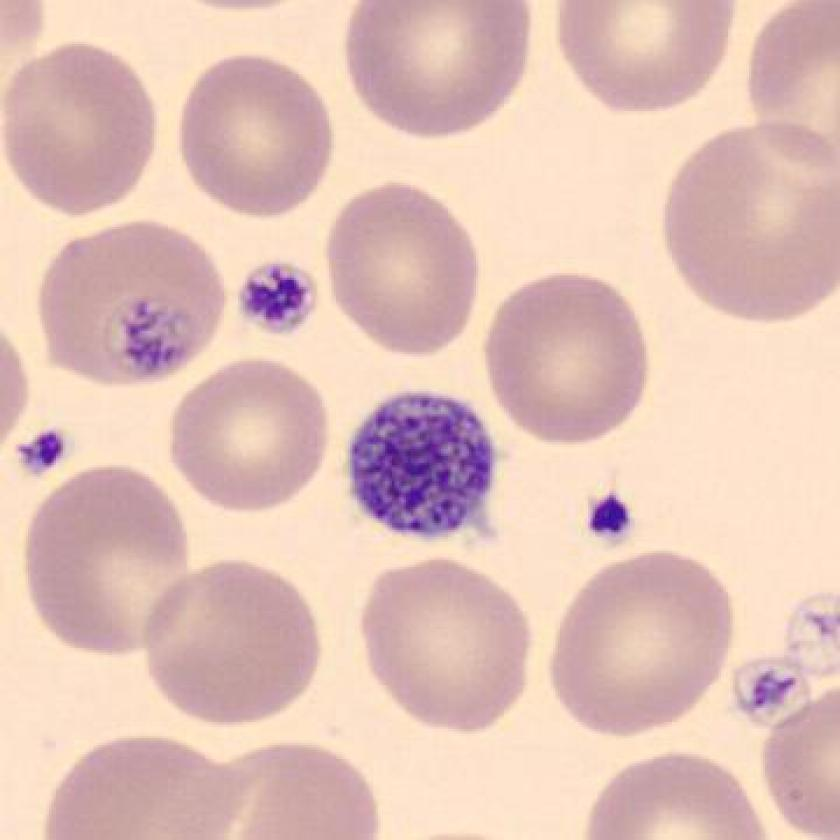platelets: (330, 376, 514, 554), (228, 244, 333, 346), (568, 471, 647, 561)
